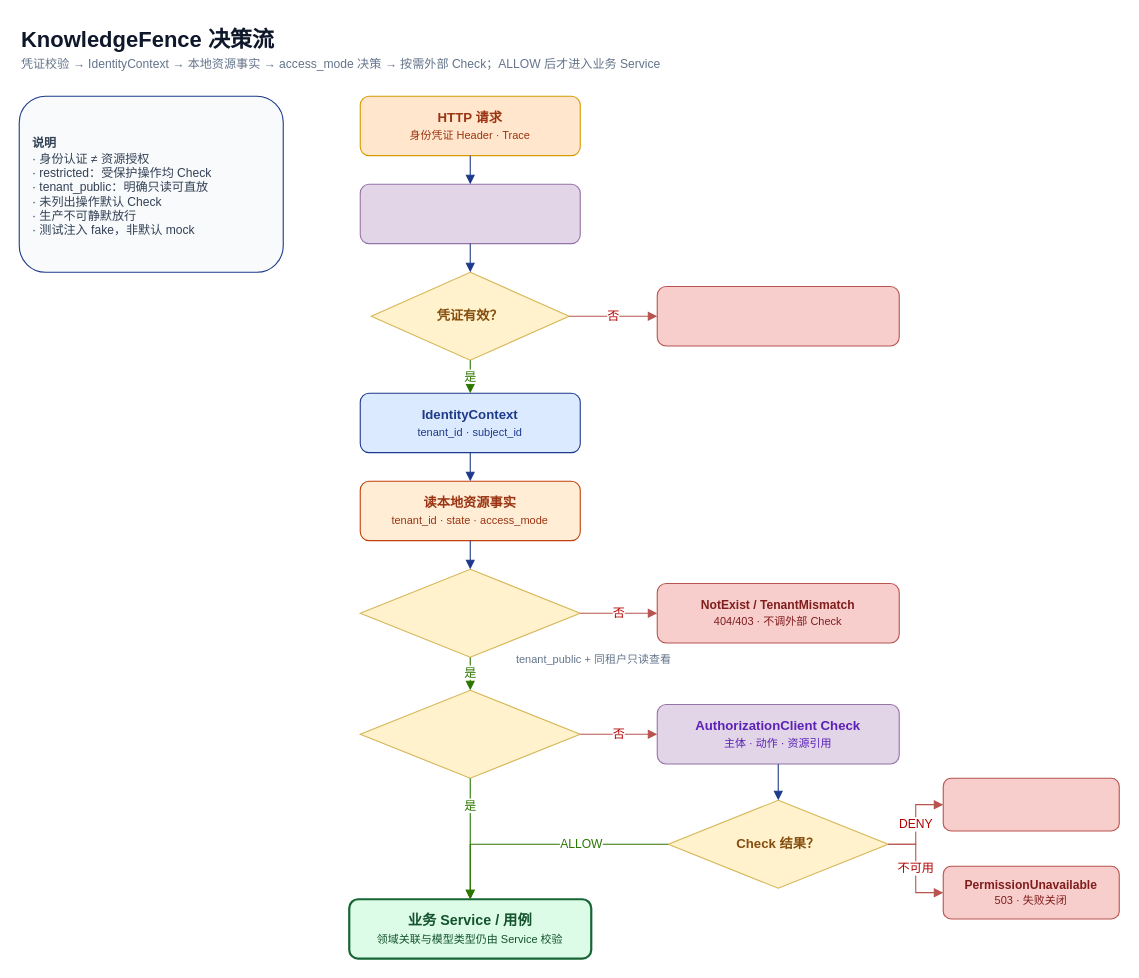
This 1139x978 diagram has some shape labels left out. The centre of each missing label's shape, as x and y in pixels:
"CredentialInvalidError 401 · 不查资源 · 不调 Service" belongs at (x=777, y=315).
"CredentialValidator 校验签发方凭证" belongs at (x=469, y=213).
"PermissionDeniedError 403 · DENY" belongs at (x=1030, y=804).
"可直接放行？" belongs at (x=469, y=733).
"存在且同租户？" belongs at (x=469, y=612).
